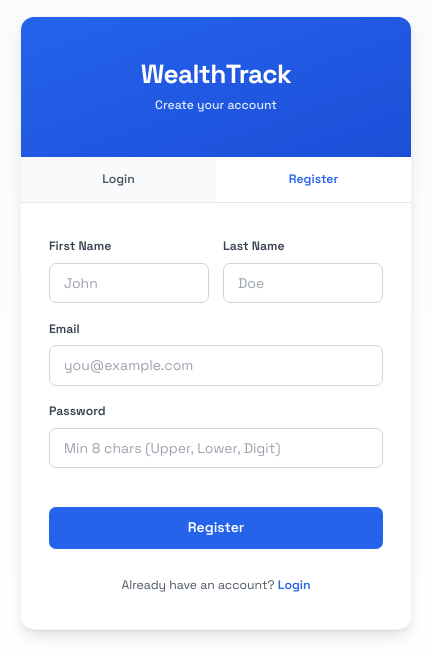
Test: Auth.vue › switches back to login mode
Click the 1st button "Login" at (118, 180), box [21,157,216,202]
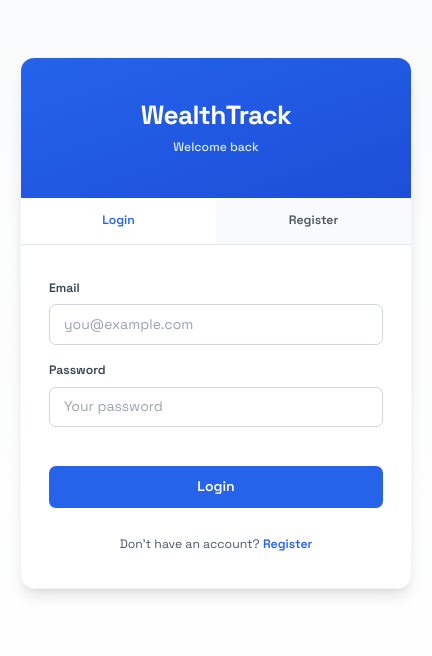
Expected: the text "Welcome back" is shown, [173,138,259,154]
